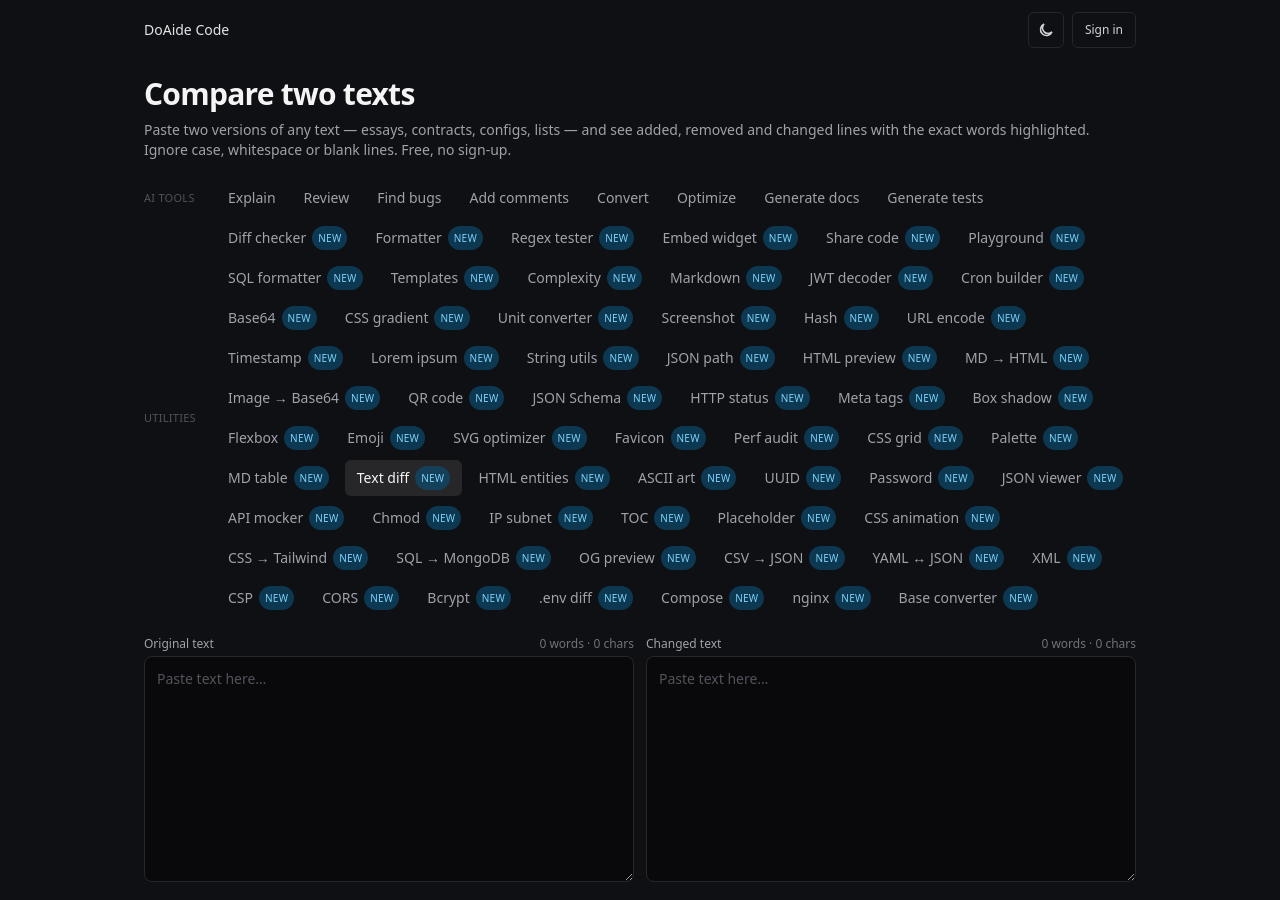
it: TextDiffPage › reports a match when ignoring case
The image size is (1280, 900).
In the text box with test id "text-diff-old": (389, 769) [144, 656, 634, 882], type "Hello"
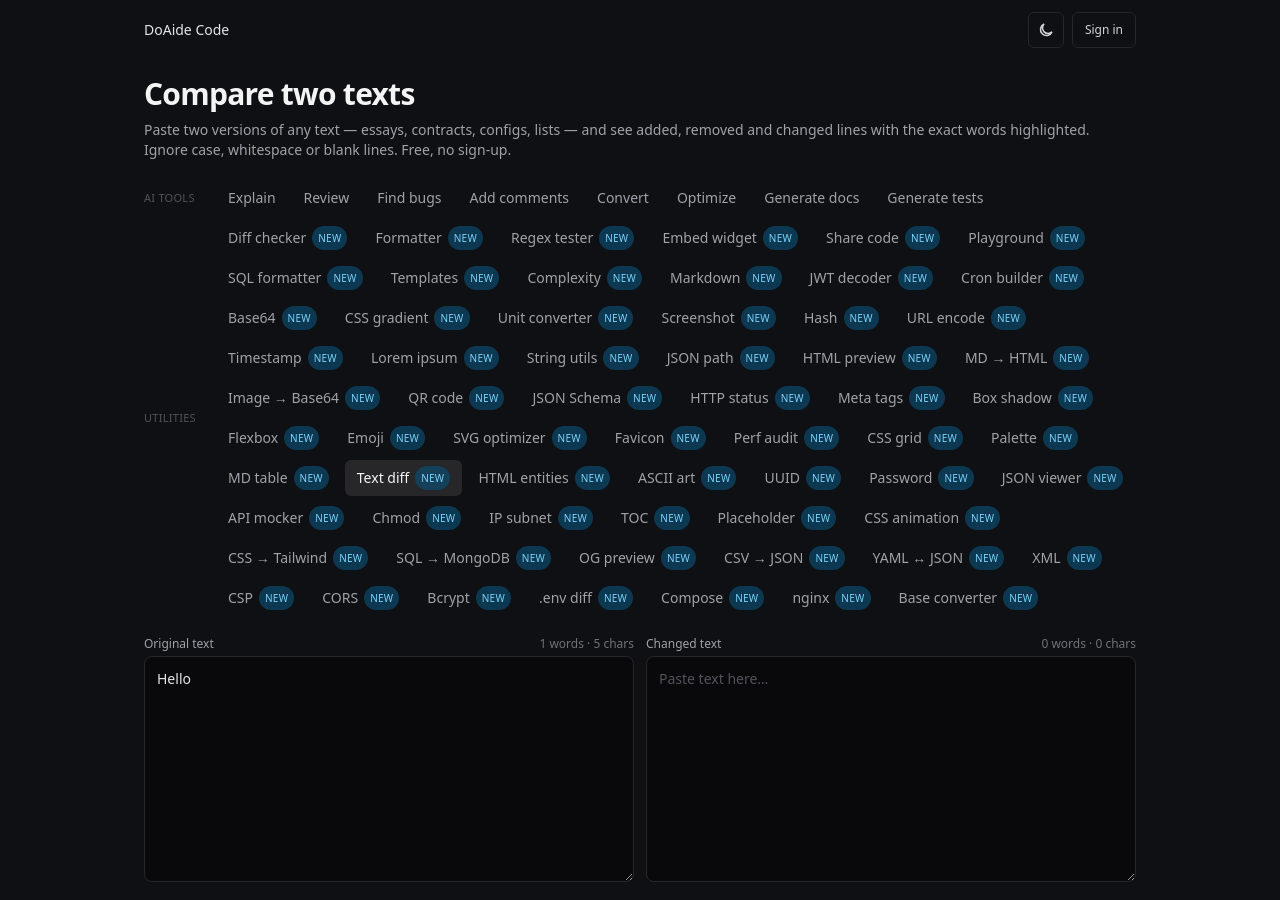
In the text box with test id "text-diff-new": (891, 769) [646, 656, 1136, 882], type "hello"
(page scrolled)
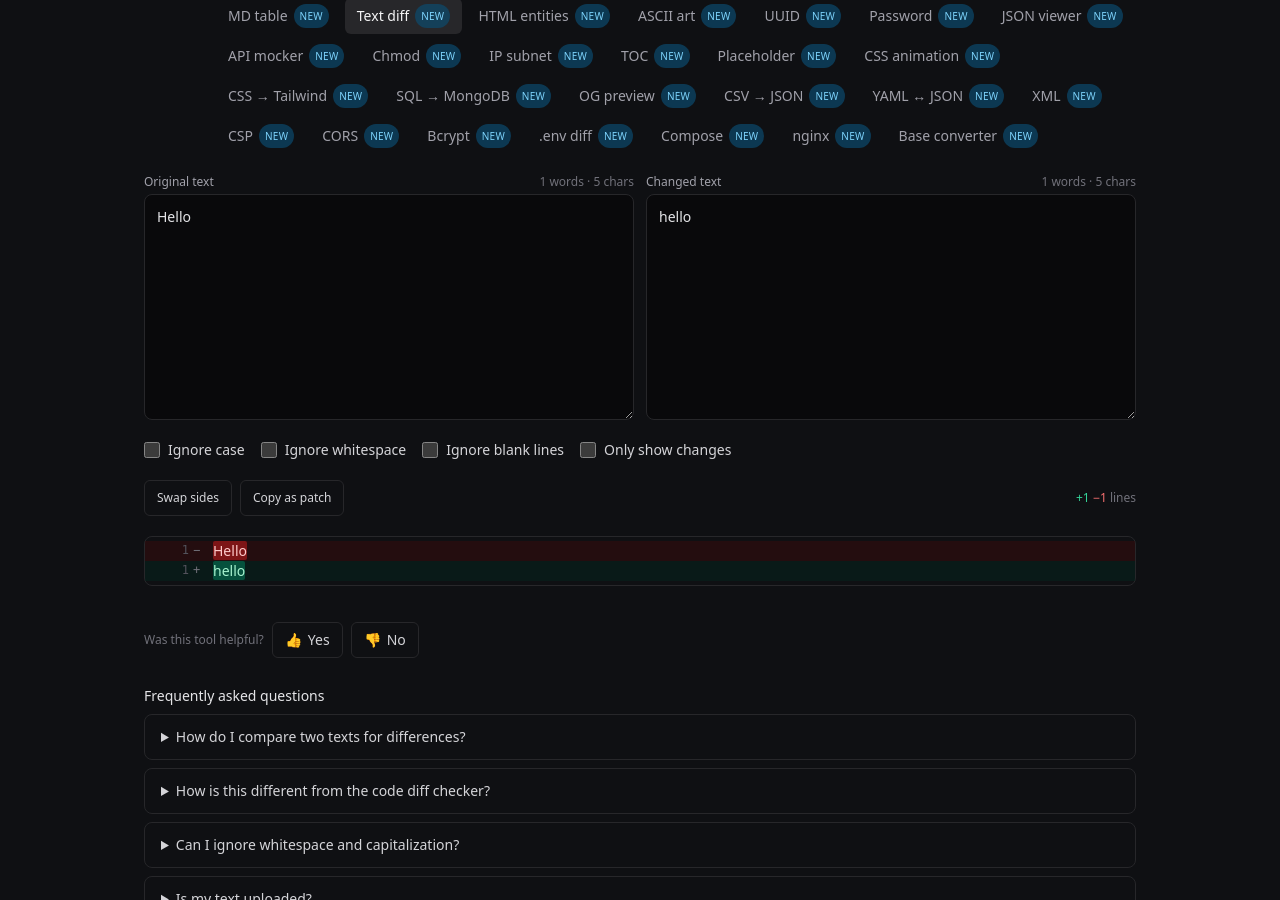
Click the checkbox with test id "text-diff-ignoreCase": (152, 450) [144, 442, 160, 458]
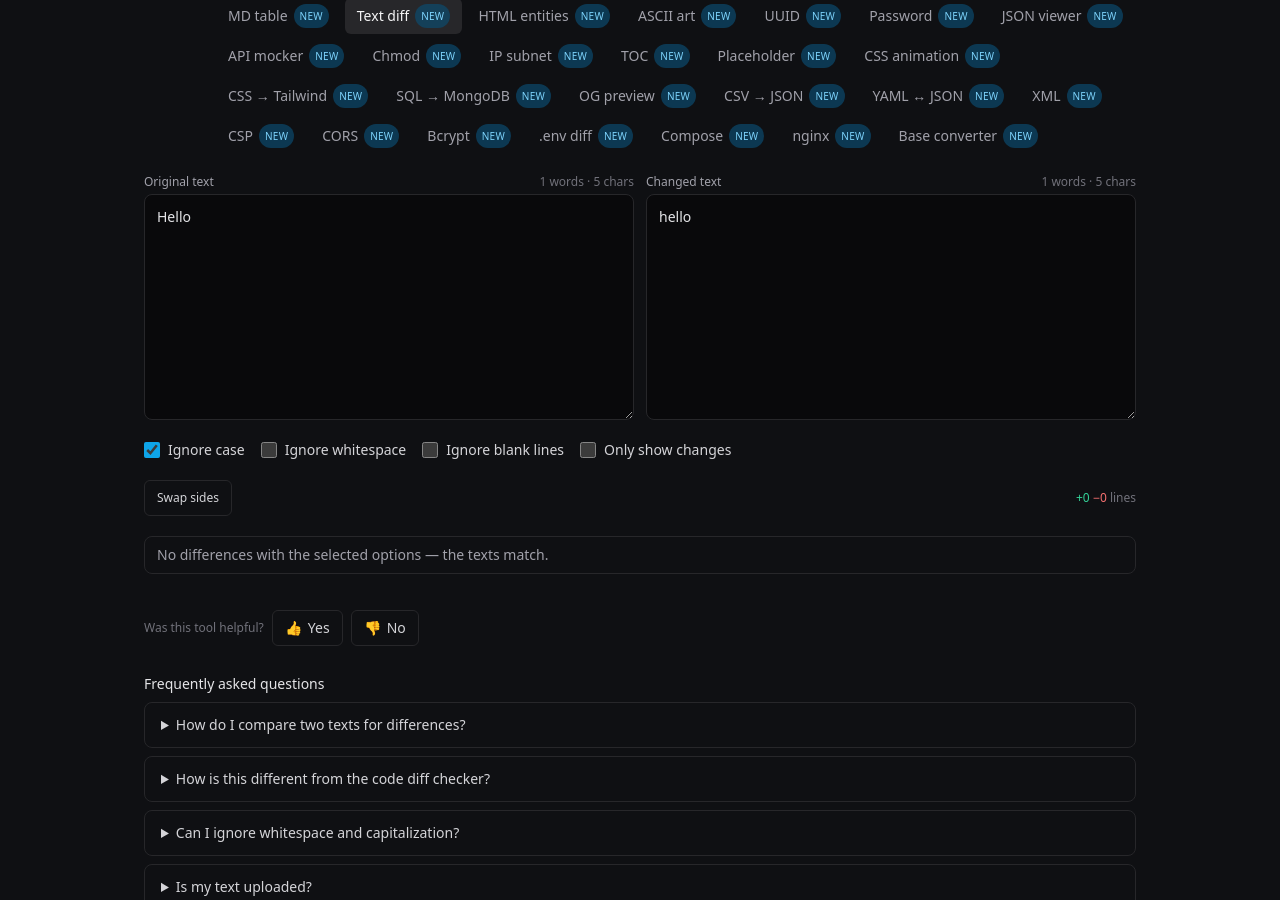
Expected: the text with test id "text-diff-same" shows "with the selected options", [253, 545, 421, 564]
